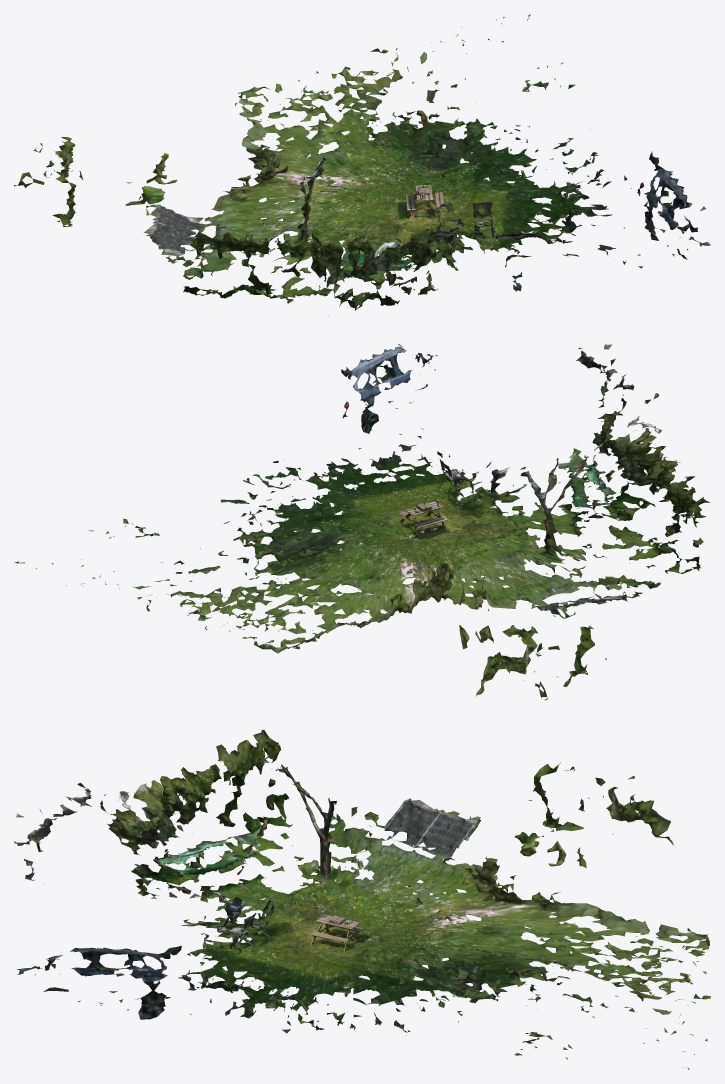
File: better_egg.glb
3 renders of one model, top to bottom at view 1: azimuth 30°, elevation 25°; view 2: azimuth 150°, elevation 25°; view 3: azimuth 270°, elevation 25°, orthographic. The views are drawn at different scales.
Visible parts, largest first — view 1: Textured_mesh_3; view 2: Textured_mesh_3; view 3: Textured_mesh_3.
Part boxes in pixels (box(x1,y1,x2,y2)): Textured_mesh_3: box(14, 14, 710, 315); Textured_mesh_3: box(14, 344, 710, 700); Textured_mesh_3: box(14, 730, 710, 1069).
Bounding box in the file's own units: 175 × 36.83 × 176.
Materials: 1 (1 with a texture image).
